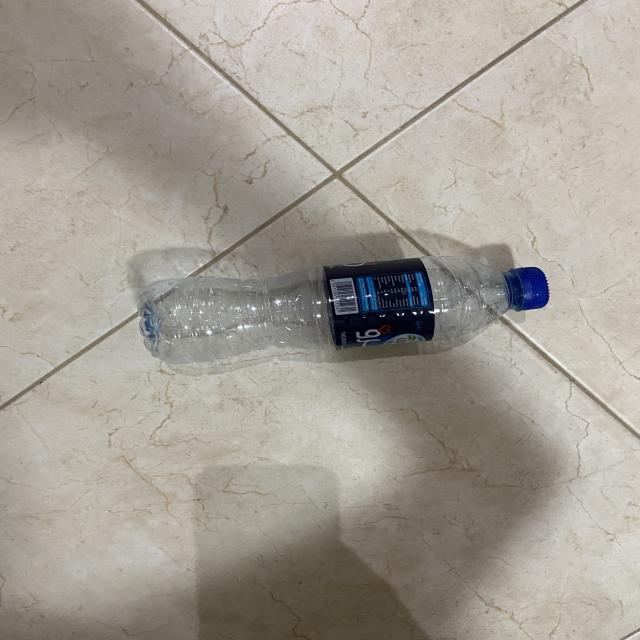bottle: (137, 251, 556, 373)
